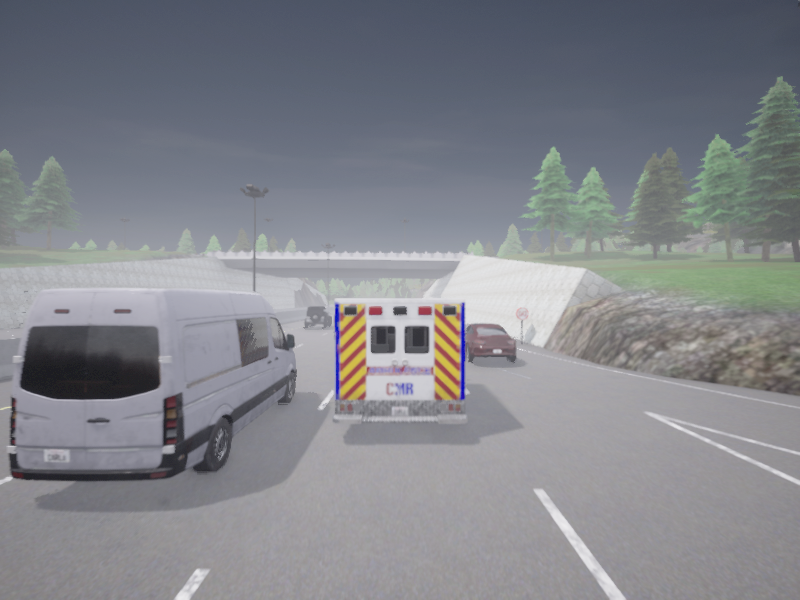vehicle: (9, 288, 296, 480), (332, 298, 467, 423), (465, 323, 516, 362), (304, 306, 332, 328)
